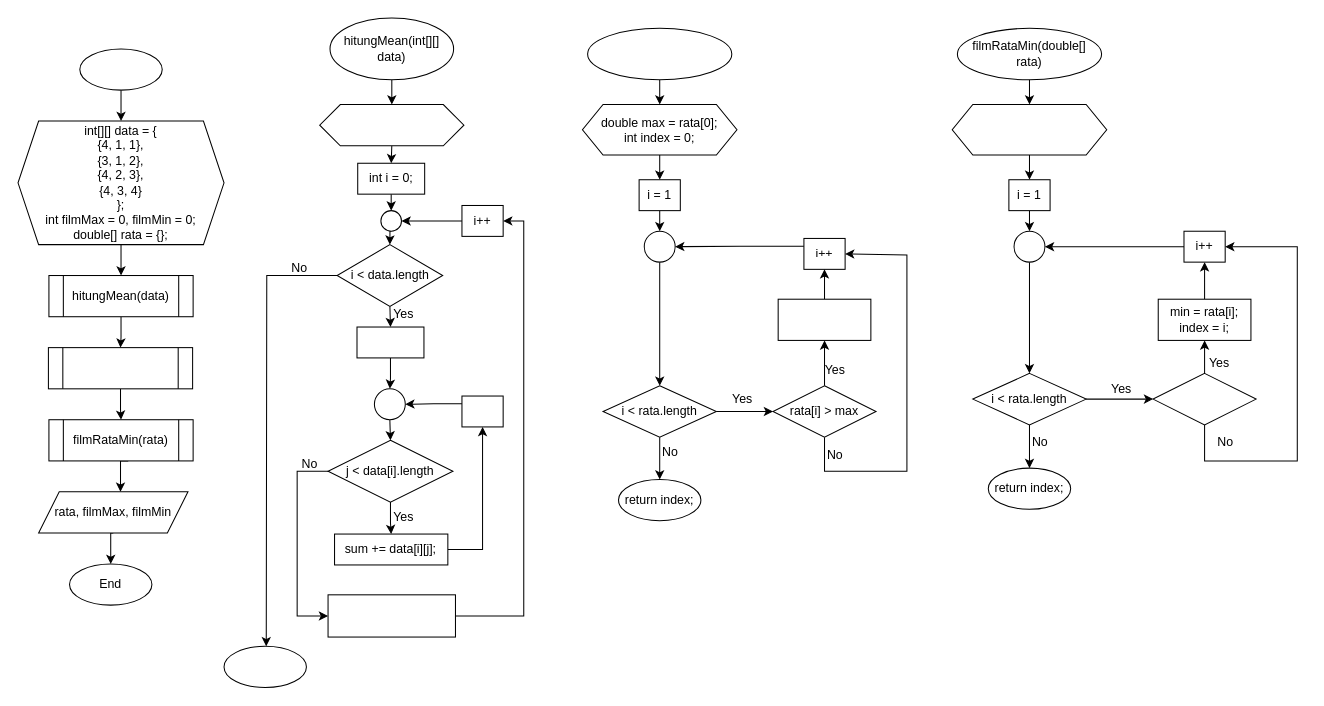
The diagram is 1324 pixels wide and 706 high, and some of its shapes have lost their labels. Each missing label, with the centre of its shape:
"double min = rata[0]; int index = 0;" belongs at [1029,129].
"double[] rata = new double [data.length]" belongs at [391,125].
"filmRataMax(double[] rata)" belongs at [659,53].
"filmRataMax(rata)" belongs at [120,368].
"int j = 0;" belongs at [390,342].
"j++" belongs at [482,411].
"max = rata[i]; index = i;" belongs at [824,319].
"rata[i] < min" belongs at [1204,398].
"rata[i] =(double) sum / data[i].length" belongs at [391,615].
"return rata;" belongs at [264,666].
"Start" belongs at [120,69].
